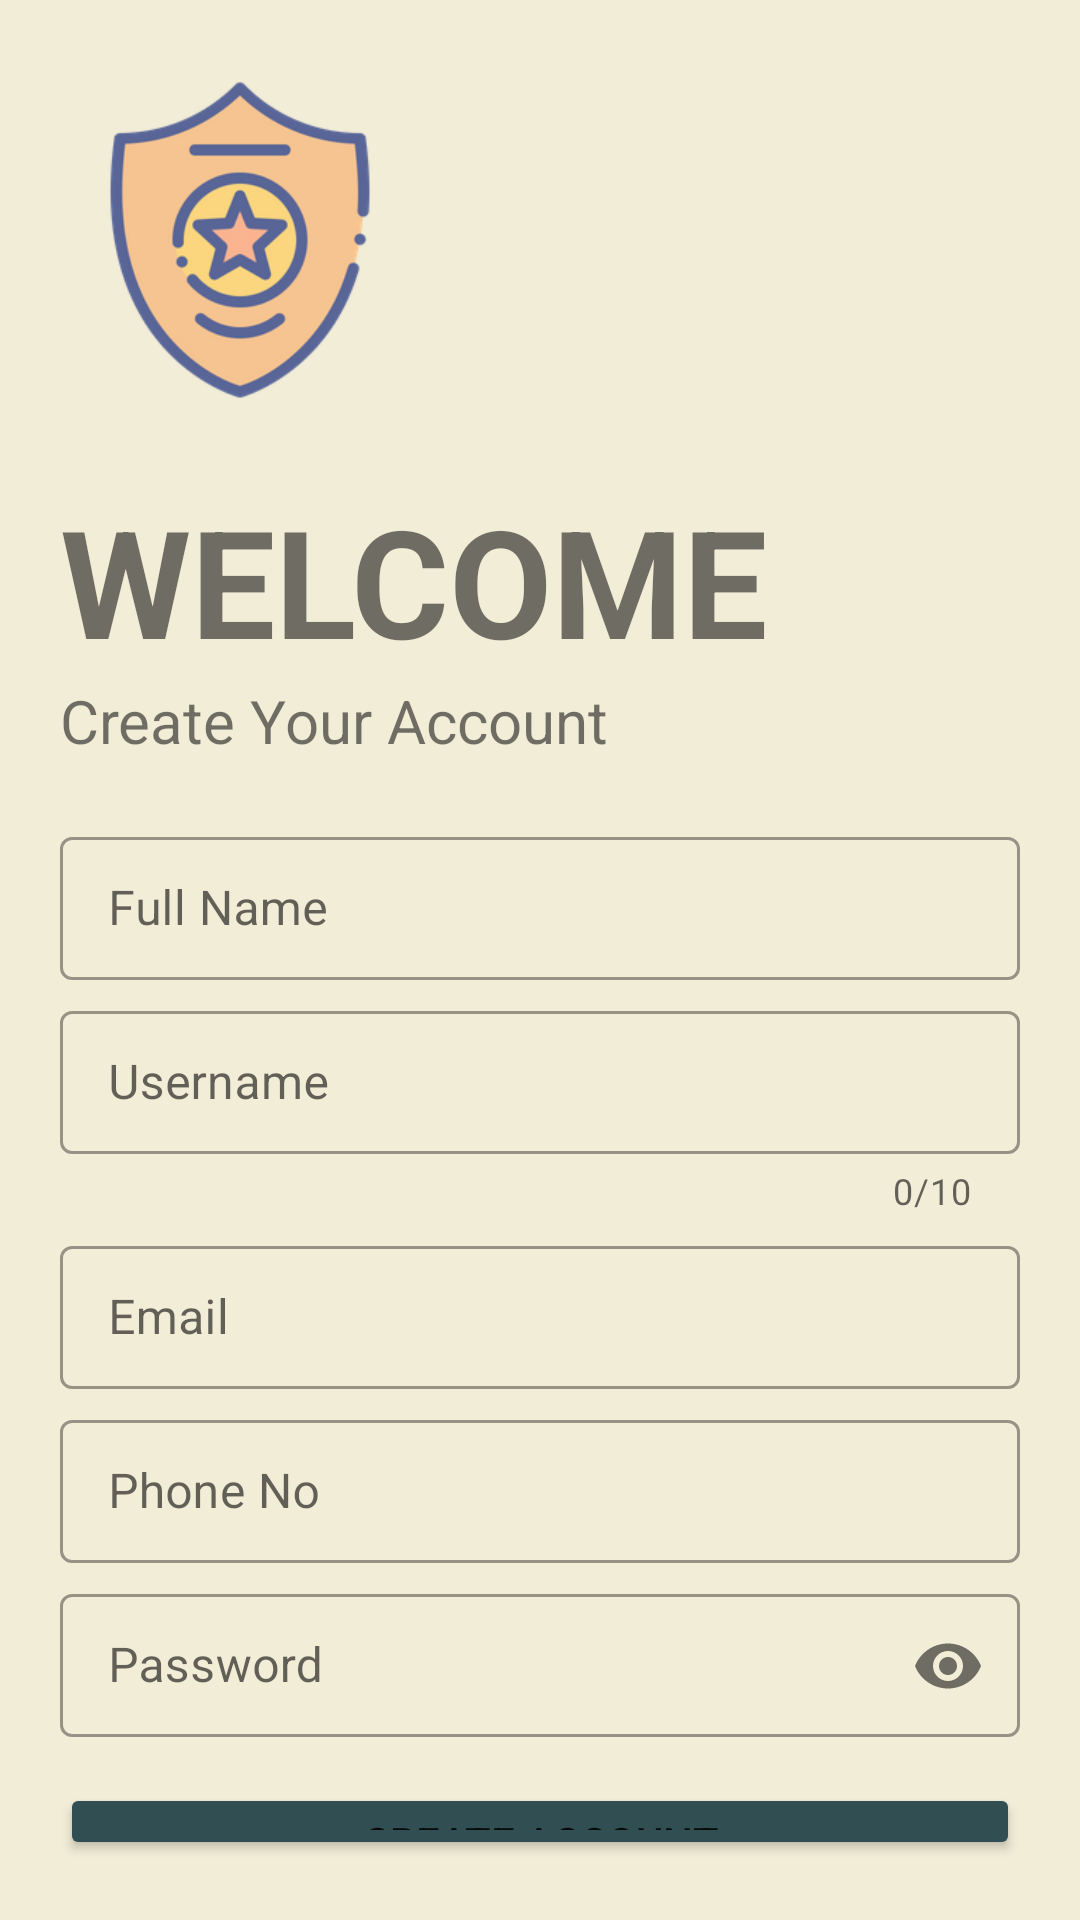

Named icons in this screenshot (1080 × 1920) and their centers, [x,y]:
policebadge: [240,240]
